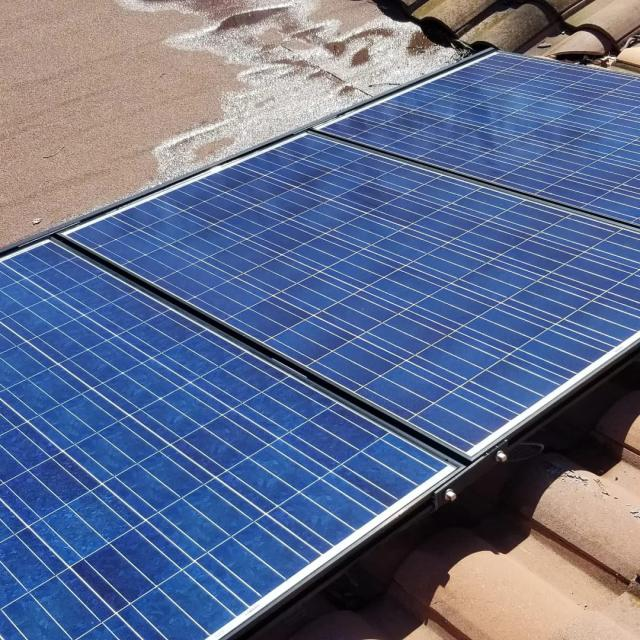clean-solar-panel: (320, 52, 640, 226)
